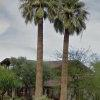Tree: (23, 0, 100, 48)
